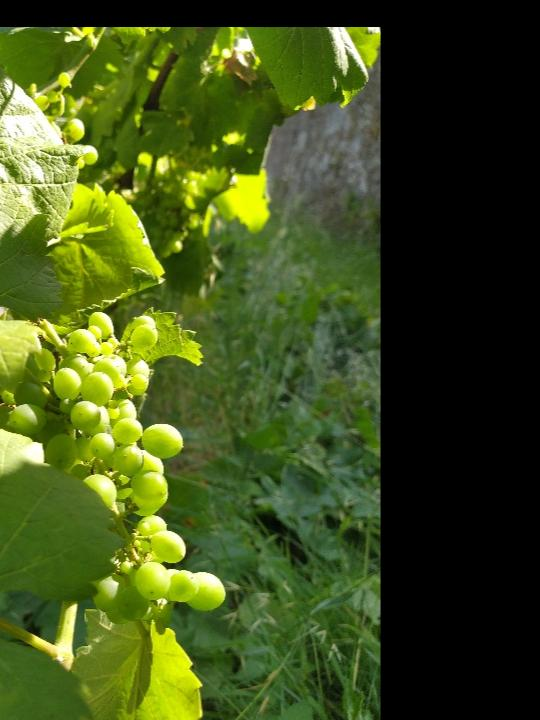grape: (0, 308, 232, 624)
